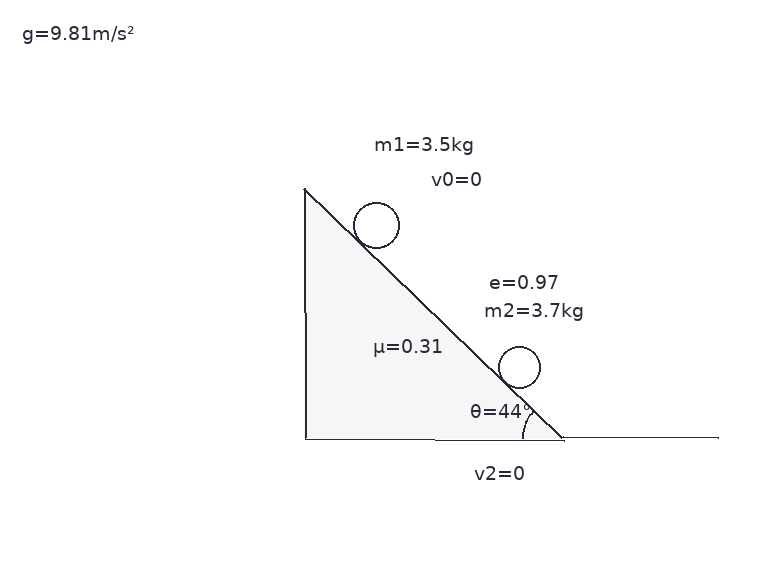ball: (351, 200, 401, 250), (496, 344, 542, 390)
ramp: (302, 186, 565, 440)
